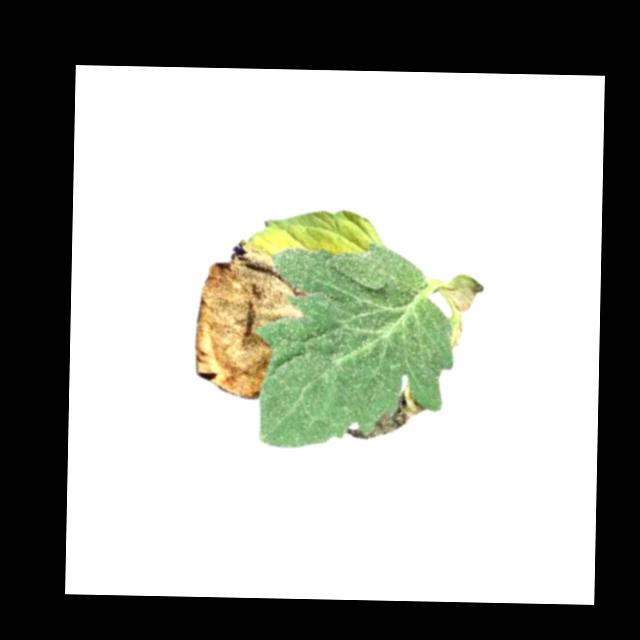Late_blight: (193, 236, 303, 402), (348, 380, 427, 444), (438, 272, 485, 352)
healthy: (253, 241, 457, 453)
